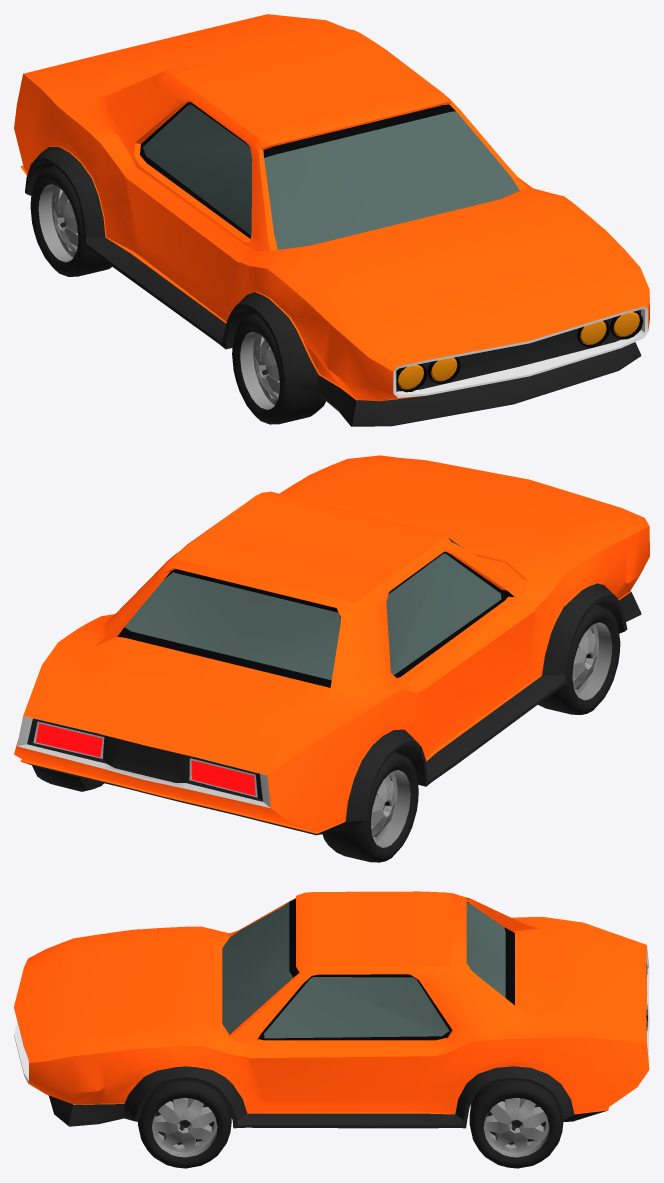
File: dodge.fbx
3 views of the same model, one above another, from view 1: azimuth 30°, elevation 25°; view 2: azimuth 150°, elevation 25°; view 3: azimuth 270°, elevation 25° (orthographic). The views are drawn at different scales.
Parts seen in each view (by area): view 1: Dodge, race3, race3.001; view 2: Dodge, race3.001, race3, race3.002; view 3: Dodge, race3.002, race3.003.
Boxes of the visible parts, box(x1,y1,x2,y2) form: Dodge: box(14, 14, 649, 426); race3: box(232, 313, 325, 424); race3.001: box(30, 166, 111, 276); Dodge: box(14, 455, 649, 835); race3.001: box(322, 752, 418, 862); race3: box(538, 604, 620, 714); race3.002: box(32, 765, 103, 791); Dodge: box(14, 891, 649, 1128); race3.002: box(469, 1080, 563, 1168); race3.003: box(138, 1080, 231, 1168).
Size of the model in its own units: 805 by 476 by 1575.
